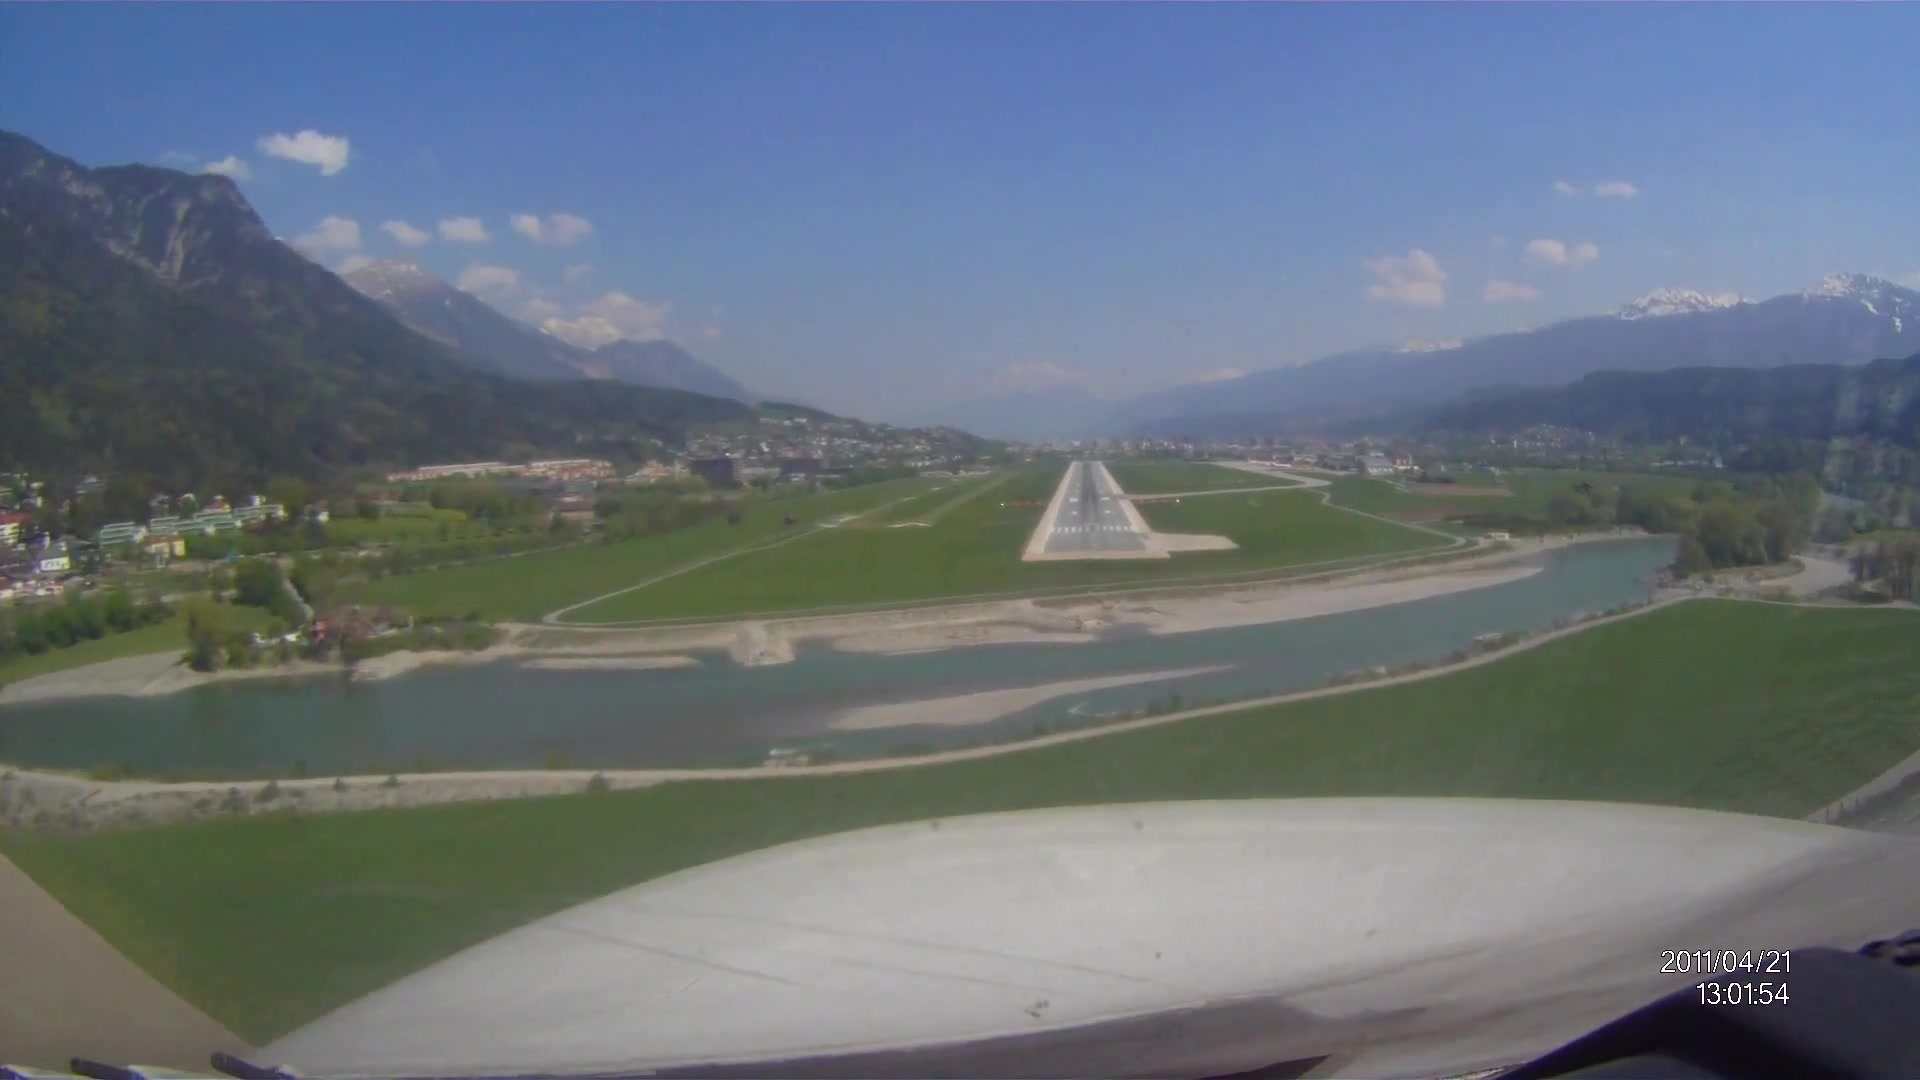entrance: (1048, 524, 1135, 534)
runway: (1044, 462, 1137, 546)
